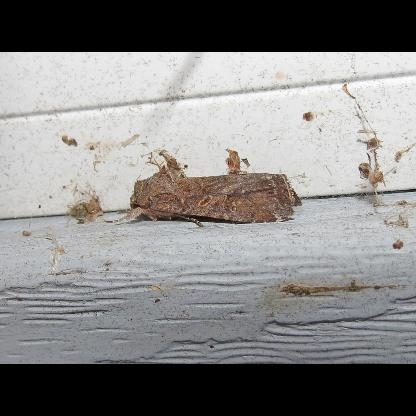Fall Armyworm Moth: (101, 167, 305, 228)
